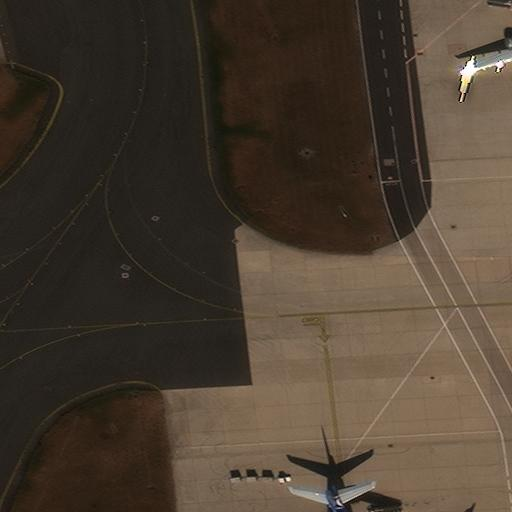Large Civil Transport: (286, 483, 405, 511)
Medium Civil Transport: (460, 10, 511, 106)
